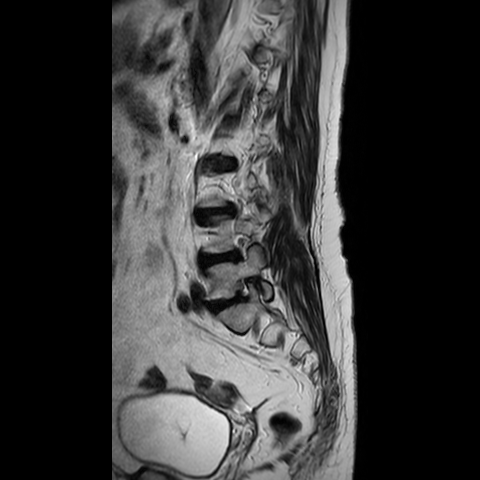LFS3: (225, 271, 262, 312)
